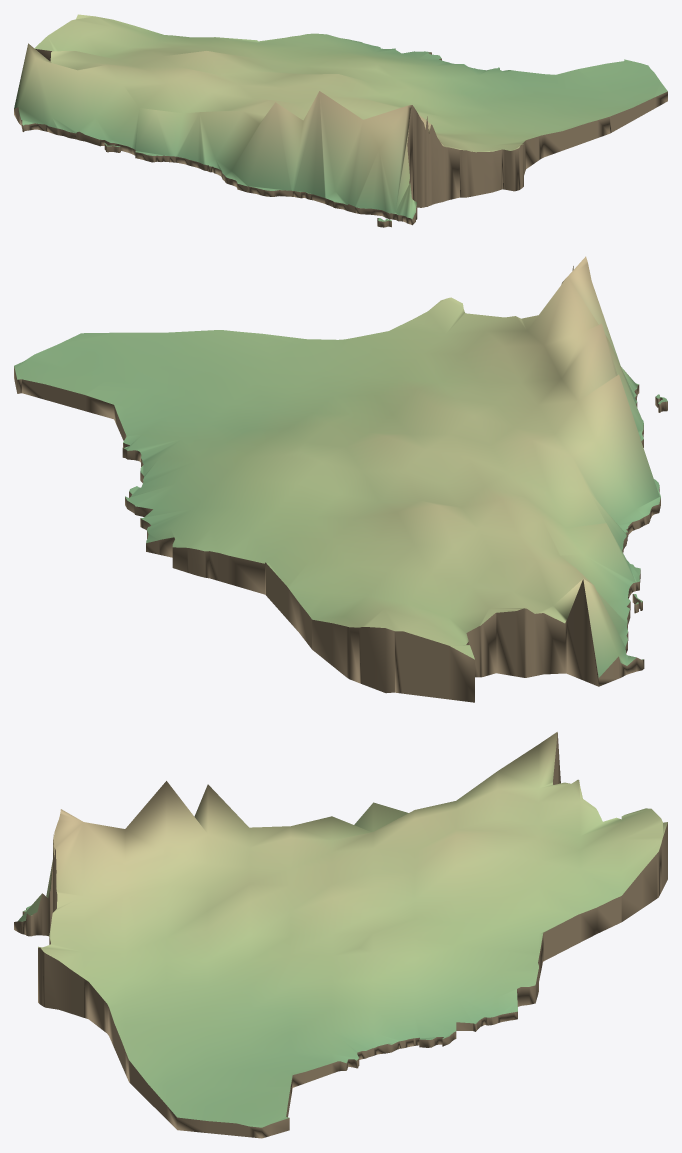
File: SAU.glb
3 renders of one model, top to bottom at view 1: azimuth 30°, elevation 25°; view 2: azimuth 150°, elevation 25°; view 3: azimuth 270°, elevation 25°, orthographic. The views are drawn at different scales.
Visible parts, largest first — view 1: SAU; view 2: SAU; view 3: SAU.
Part boxes in pixels (left/top/right/bottom): SAU: left=14, top=14, right=667, bottom=227; SAU: left=14, top=256, right=667, bottom=702; SAU: left=14, top=732, right=667, bottom=1138.
Size of the model in its own units: 1.69 by 0.3145 by 1.41.
